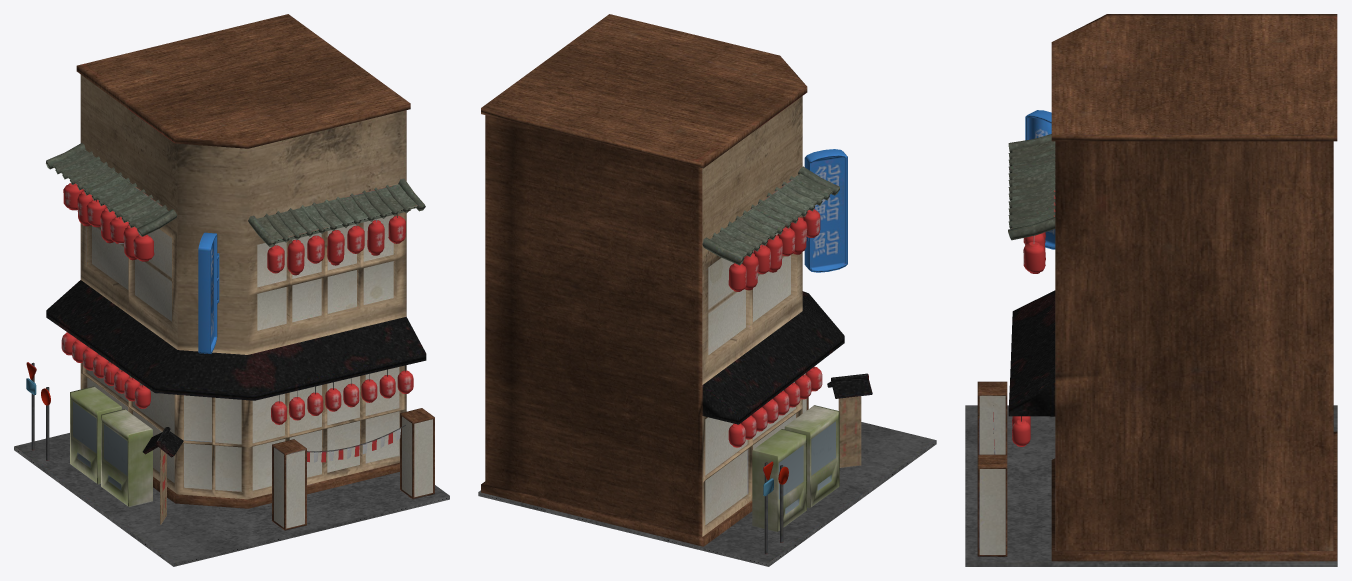
File: restaurant1.glb
3 renders of one model, left to right at view 1: azimuth 30°, elevation 25°; view 2: azimuth 150°, elevation 25°; view 3: azimuth 270°, elevation 25°, orthographic. The views are drawn at different scales.
Visible parts, largest first — view 1: g; view 2: g; view 3: g.
Boxes of the visible parts, x1,y1,x2,y2 form: g: [14, 14, 449, 566]; g: [478, 14, 936, 566]; g: [965, 14, 1337, 566].
Size of the model in its own units: 1.57 by 2 by 1.57.
Materials: 1 (1 with a texture image).
